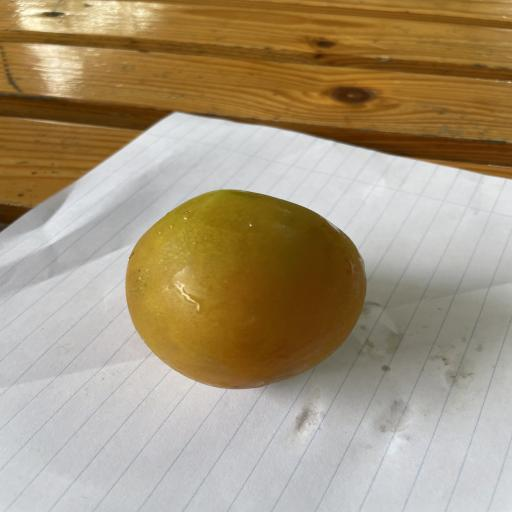unripe: (126, 190, 366, 389)
